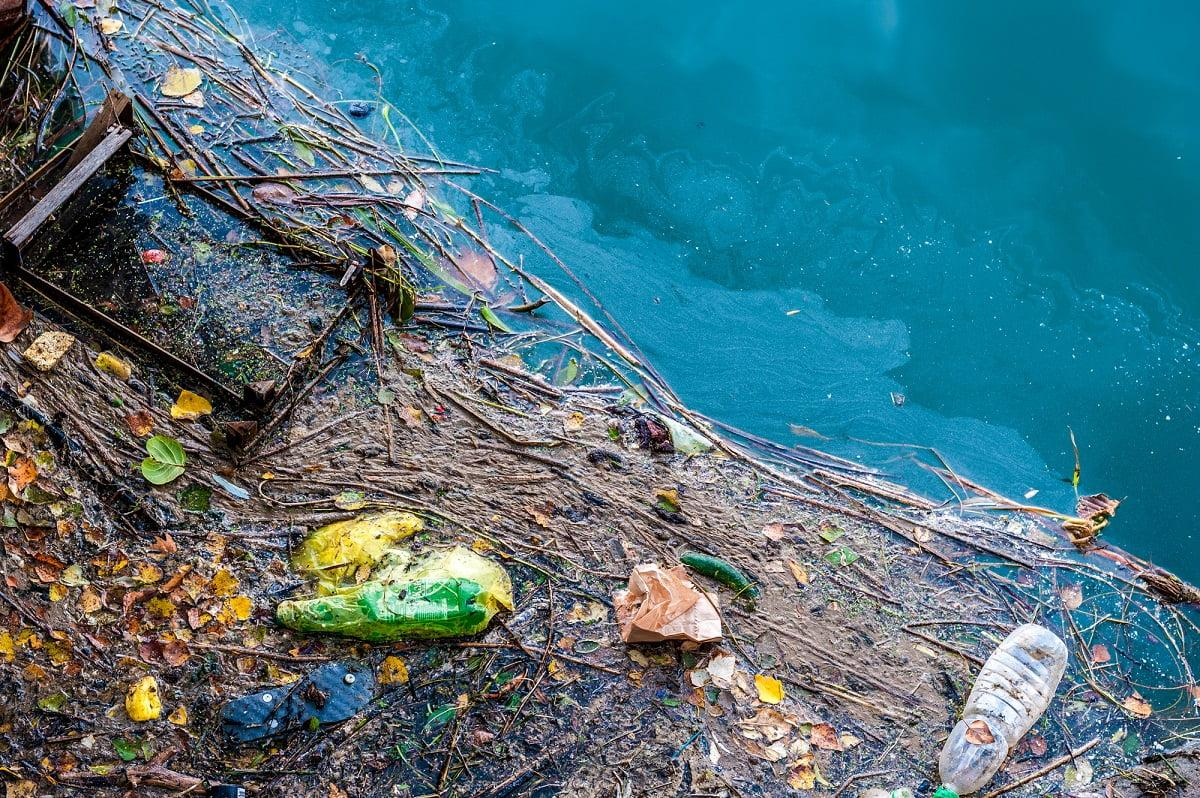Plastic: (939, 617, 1074, 797), (273, 572, 491, 638)
